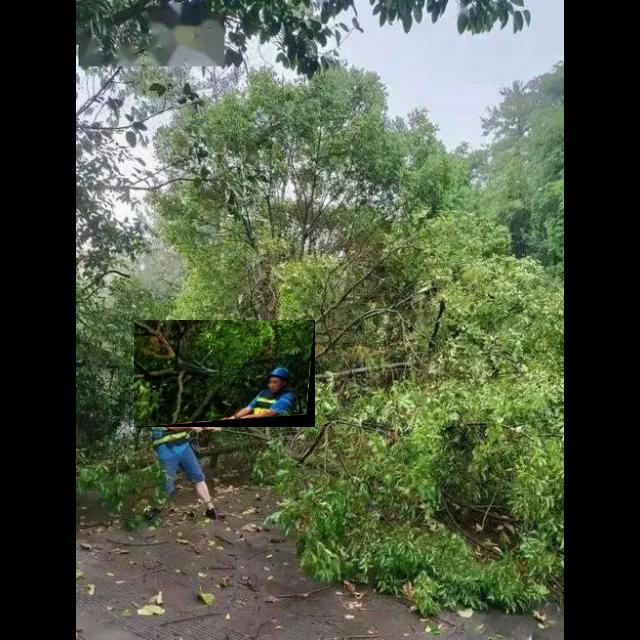Fallen Tree: (134, 320, 316, 428)
